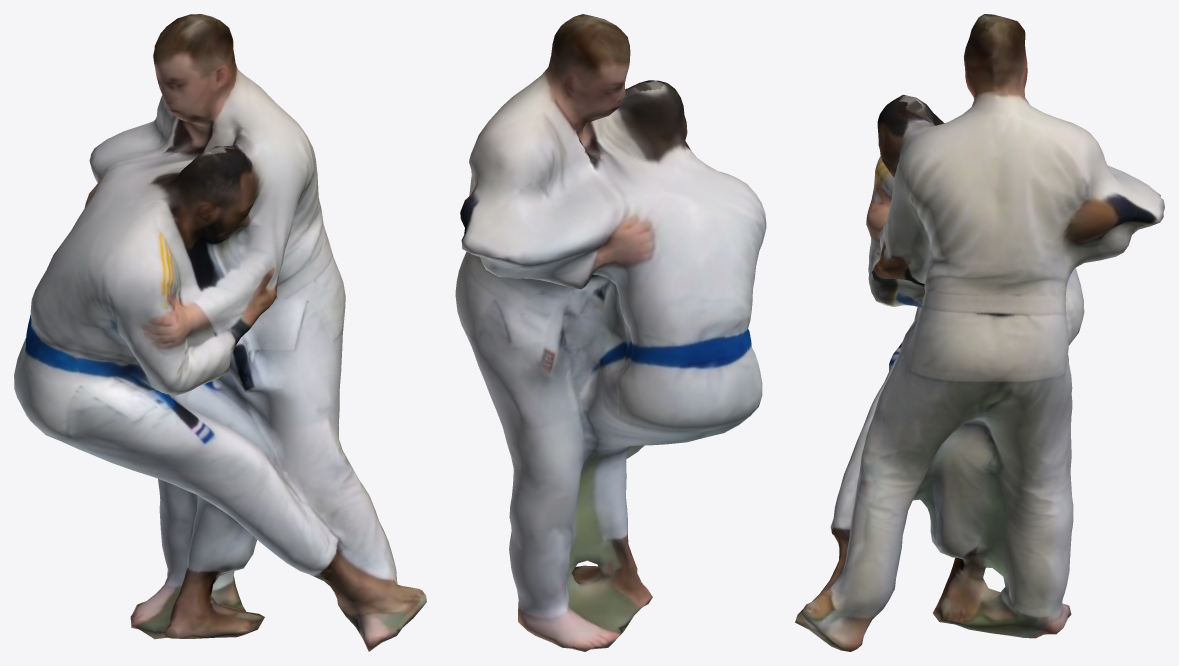
File: hip-throw-2.glb
3 renders of one model, left to right at view 1: azimuth 30°, elevation 25°; view 2: azimuth 150°, elevation 25°; view 3: azimuth 270°, elevation 25°, orthographic. The views are drawn at different scales.
Bounding box in the file's own units: 0.6702 × 1.3 × 0.7145.
1 material, 1 textured.
